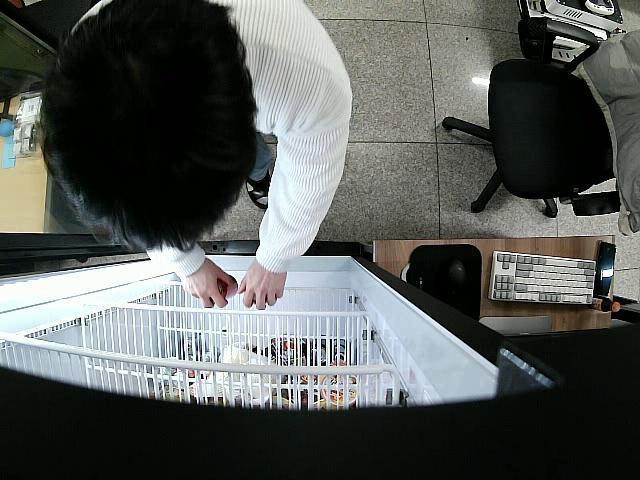11_cocaColaZero: (216, 272, 239, 300)
